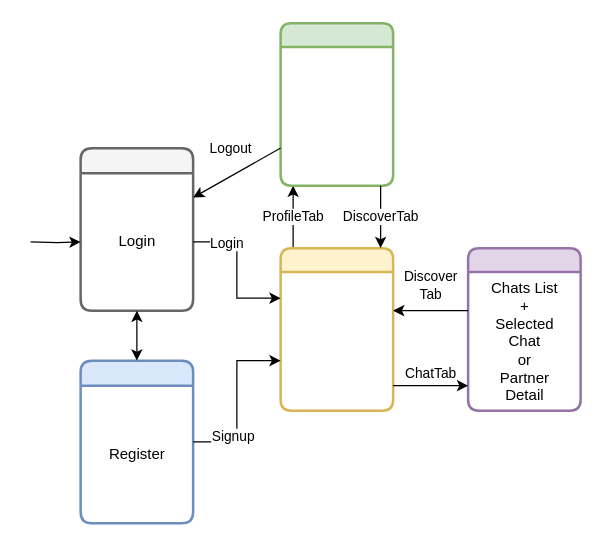
This 604x545 diagram has some shape labels left out. The shapes that lost their labels are listed below. From the top down, each one's centre as x and y in pixels, then its label:
At (336,103): "Profile".
At (336,328): "Discover + Show Partner Detail".
